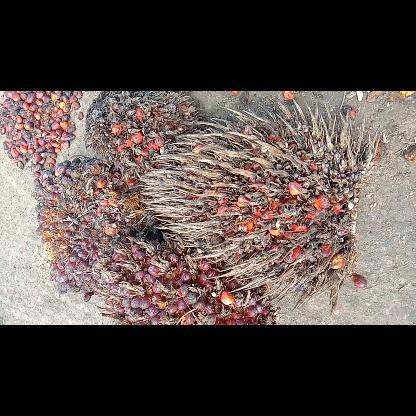TBS masak: (34, 158, 158, 302), (93, 234, 274, 324)
Terlalu masak: (138, 100, 376, 310), (84, 91, 202, 177)
